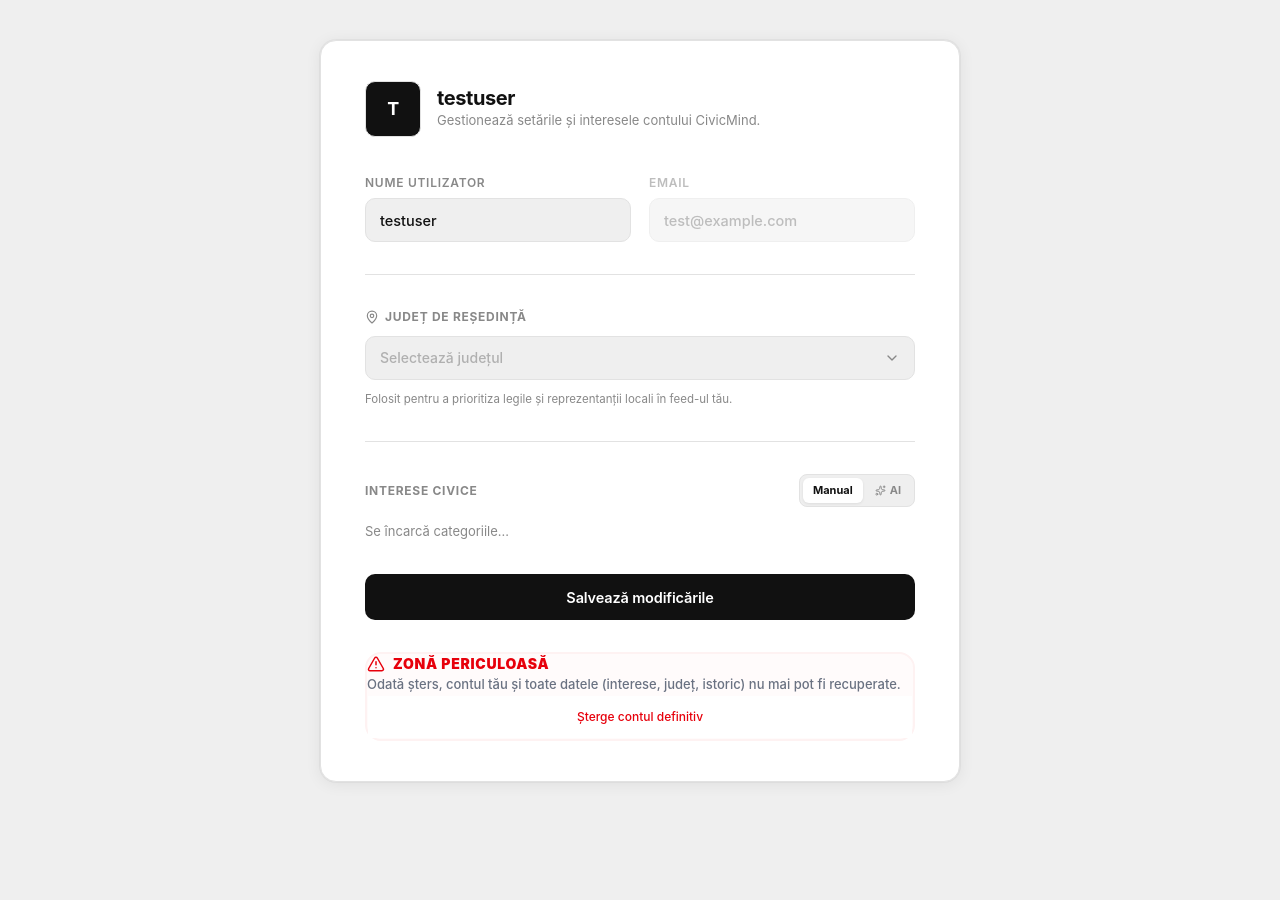
Test: Profile Page › should show error on update failure
Click the button "Salvează modificările" at (640, 597), box [365,574,915,620]
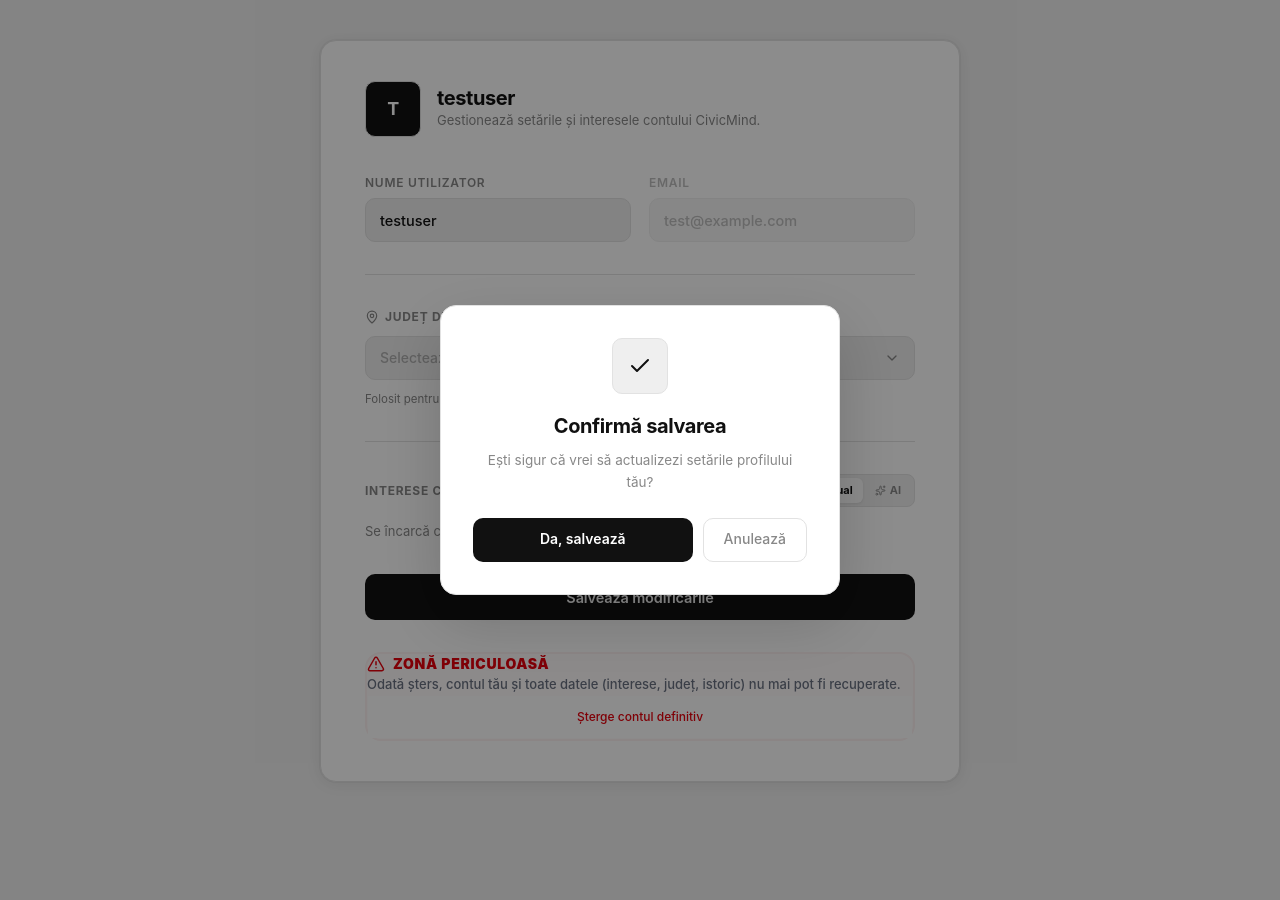
Click the button "Da, salvează" at (583, 540), box [473,518,693,562]
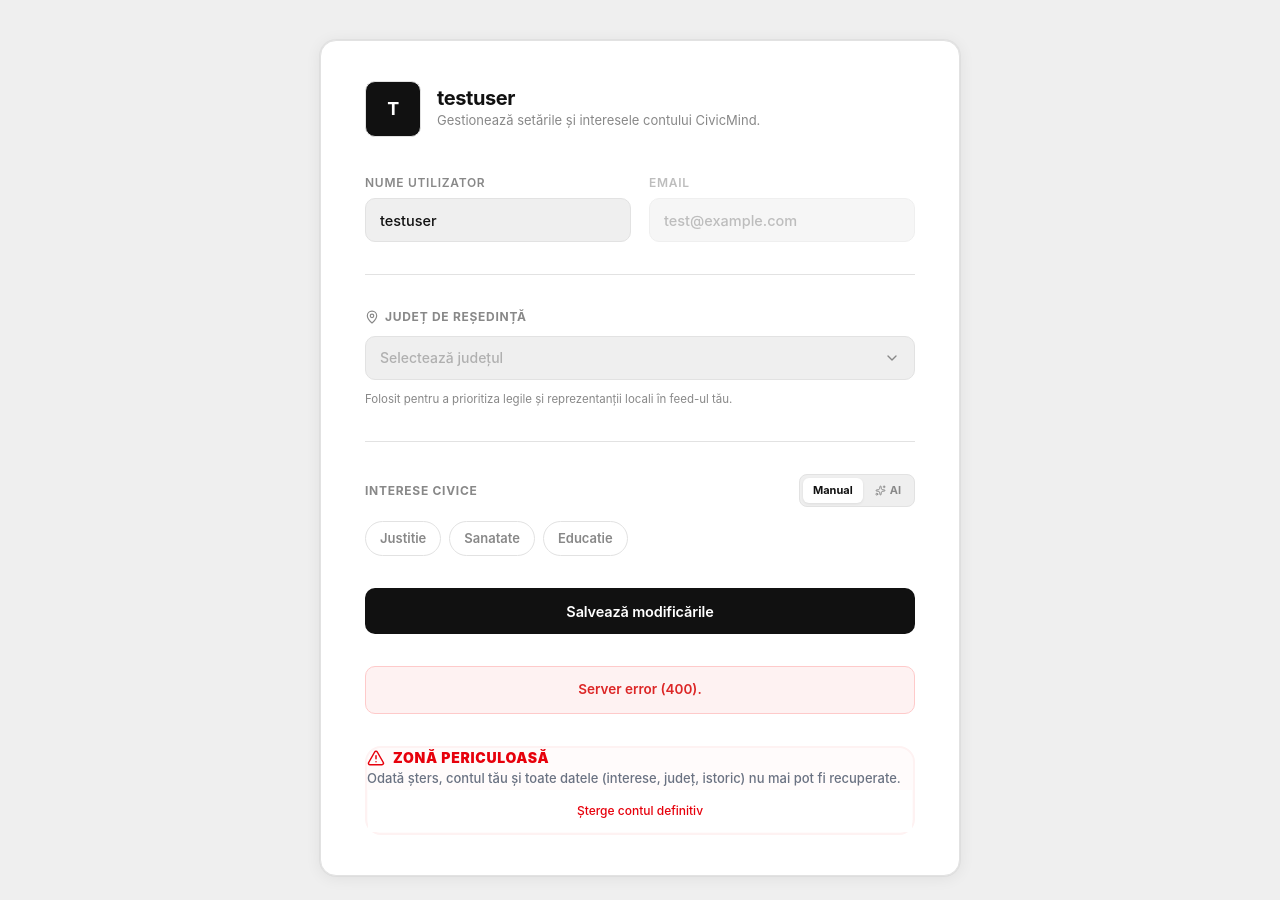
Now the text "Server error (400)." is shown, box [365,666,915,714]
